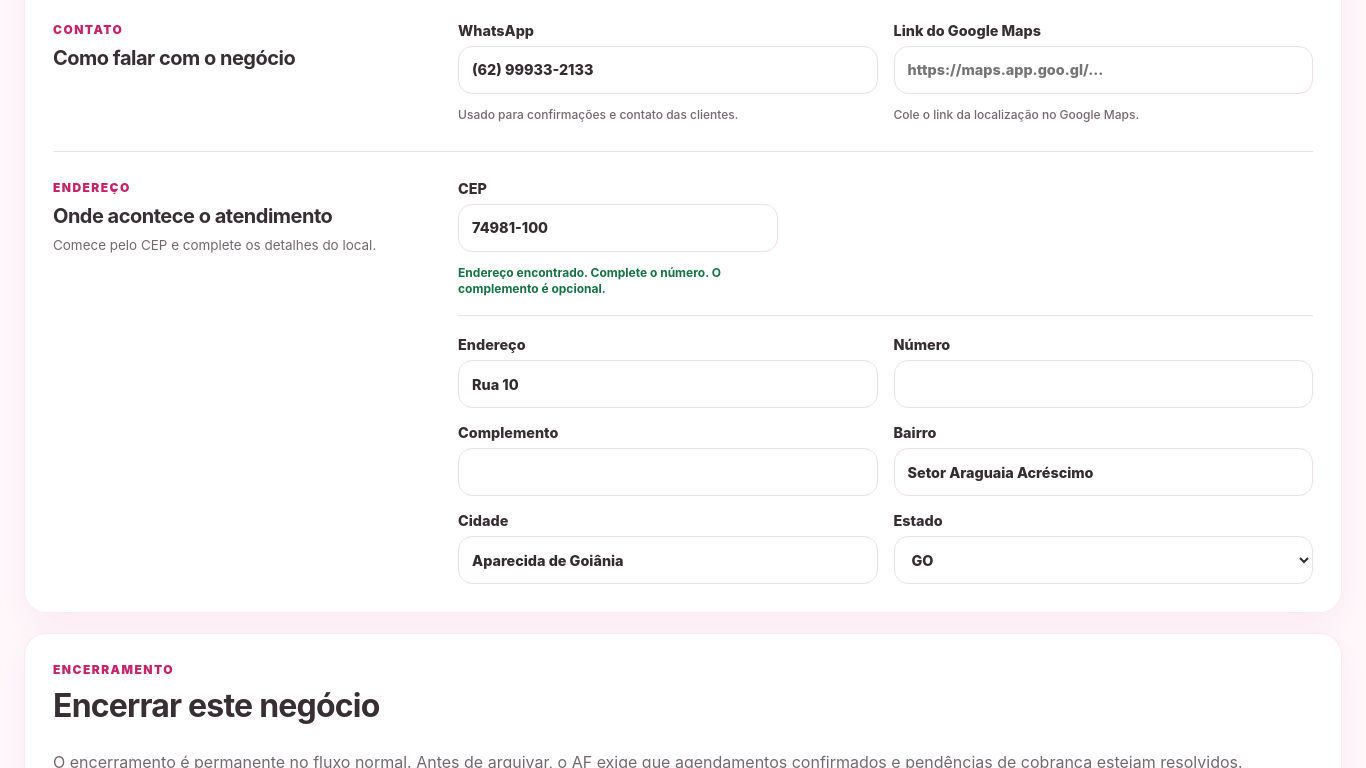
Scenario: estado de alterações do Meu negócio › não marca como alterado quando o CEP salvo completa o endereço automaticamente
(page scrolled)
Expected: the field showing "Rua 10" is shown, [458,360,878,408]
Expected: the field showing "Setor Araguaia Acréscimo" is shown, [894,448,1313,496]
Type "123" into the field labelled "Número" at point(1103, 384), box [894,360,1313,408]
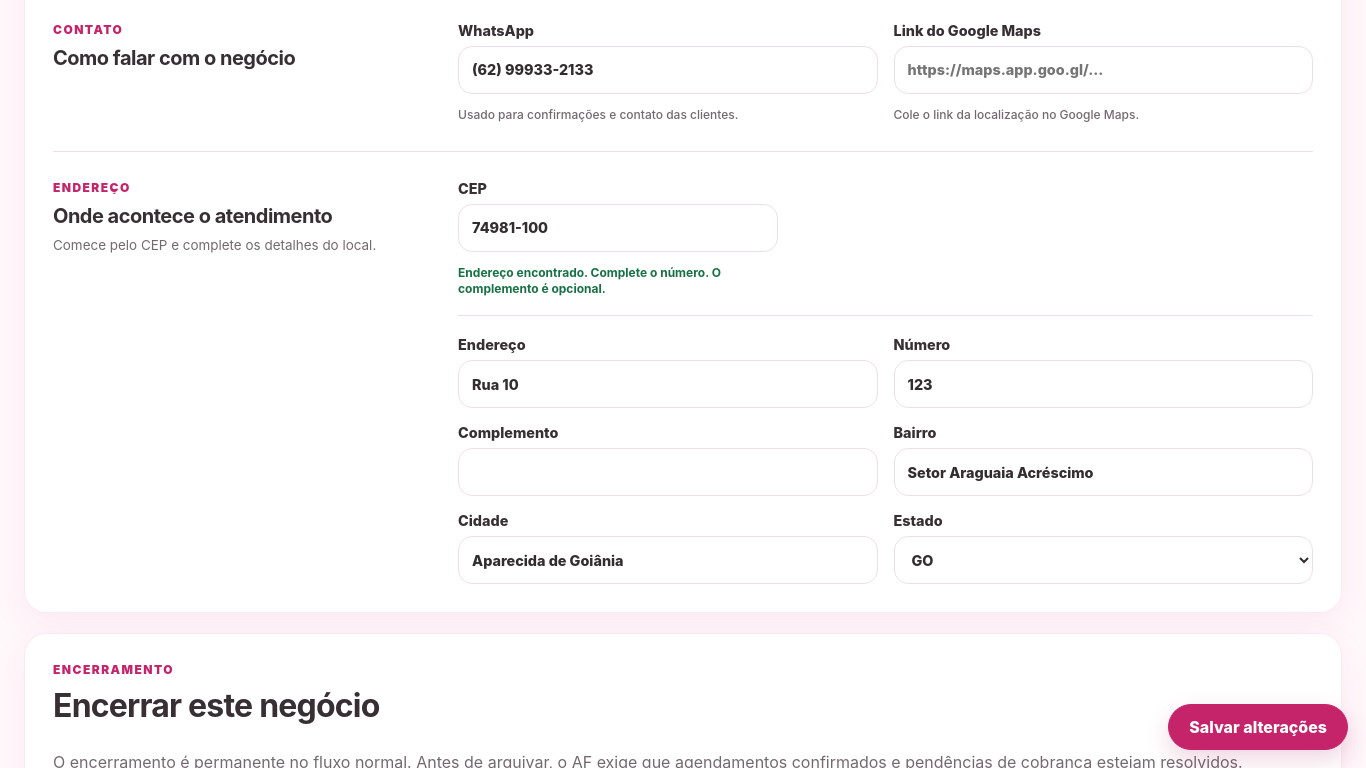
Result: the button "Salvar alterações" is shown at [1168,704,1348,750]
